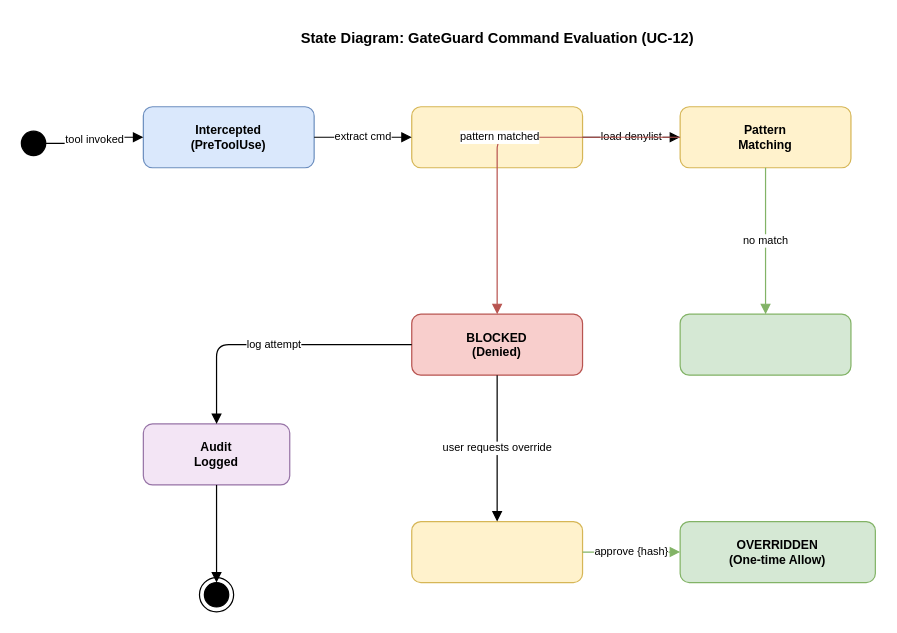
This 897x633 diagram has some shape labels left out. Each missing label, with the centre of its shape:
"ALLOWED (Pass Through)" goes at [765,344].
"Awaiting Override" goes at [497,551].
"Parsing Command" goes at [497,137].
